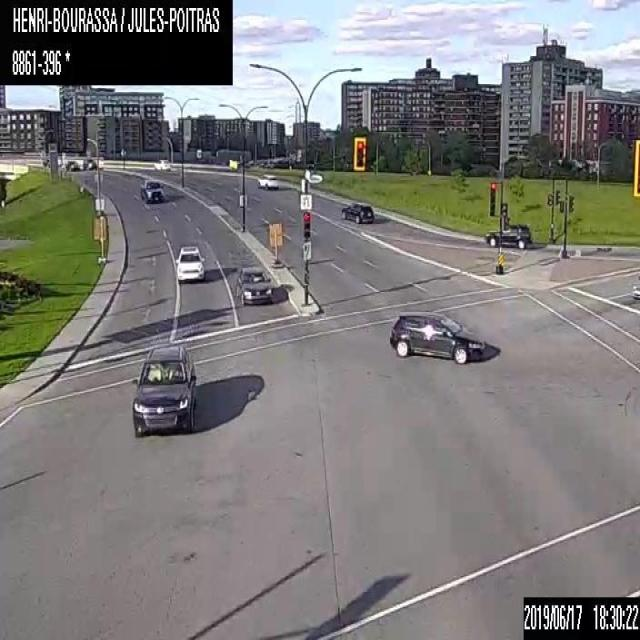vehicle: (132, 345, 196, 436), (388, 310, 486, 363), (235, 264, 274, 305), (174, 242, 205, 282), (484, 223, 531, 248), (341, 201, 374, 222), (140, 177, 164, 202), (255, 171, 278, 189), (630, 273, 639, 299), (152, 158, 170, 169), (82, 156, 96, 169), (65, 158, 79, 170)
